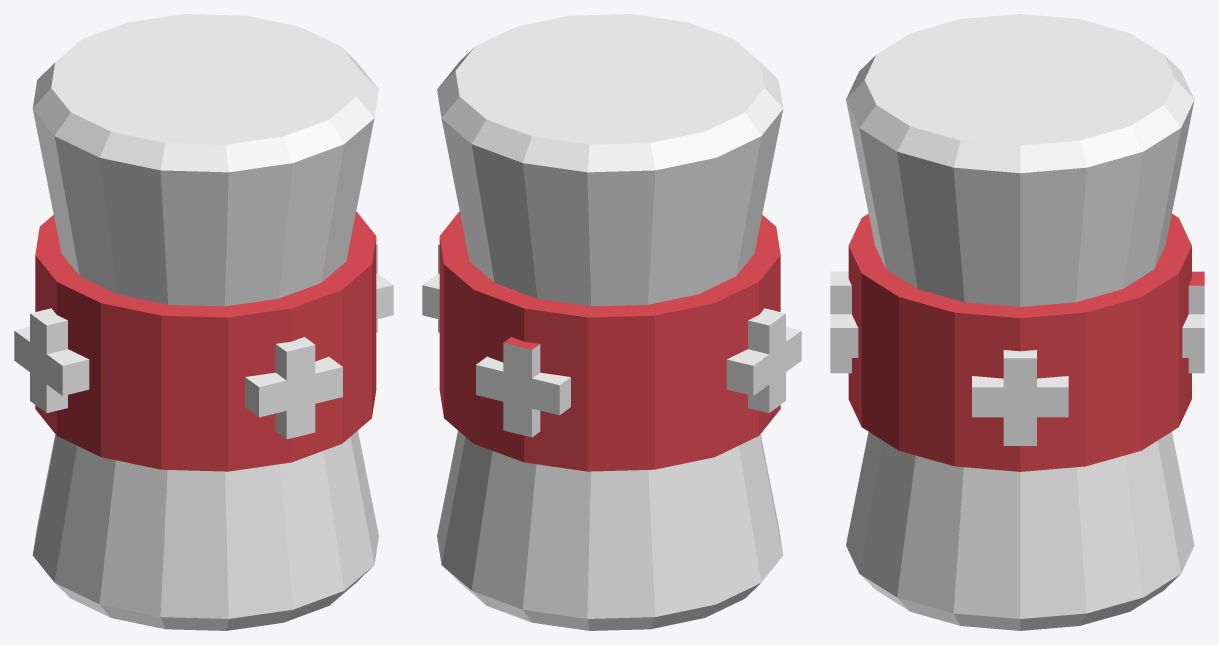
The model's file is health.fbx.
3 renders of one model, left to right at view 1: azimuth 30°, elevation 25°; view 2: azimuth 150°, elevation 25°; view 3: azimuth 270°, elevation 25°, orthographic.
Visible parts, largest first — view 1: health; view 2: health; view 3: health.
Part boxes in pixels (x1,y1,x2,y2): health: [14, 14, 393, 630]; health: [422, 14, 801, 630]; health: [830, 14, 1204, 630].
Bounding box in the file's own units: 80.33 × 113 × 78.85.
